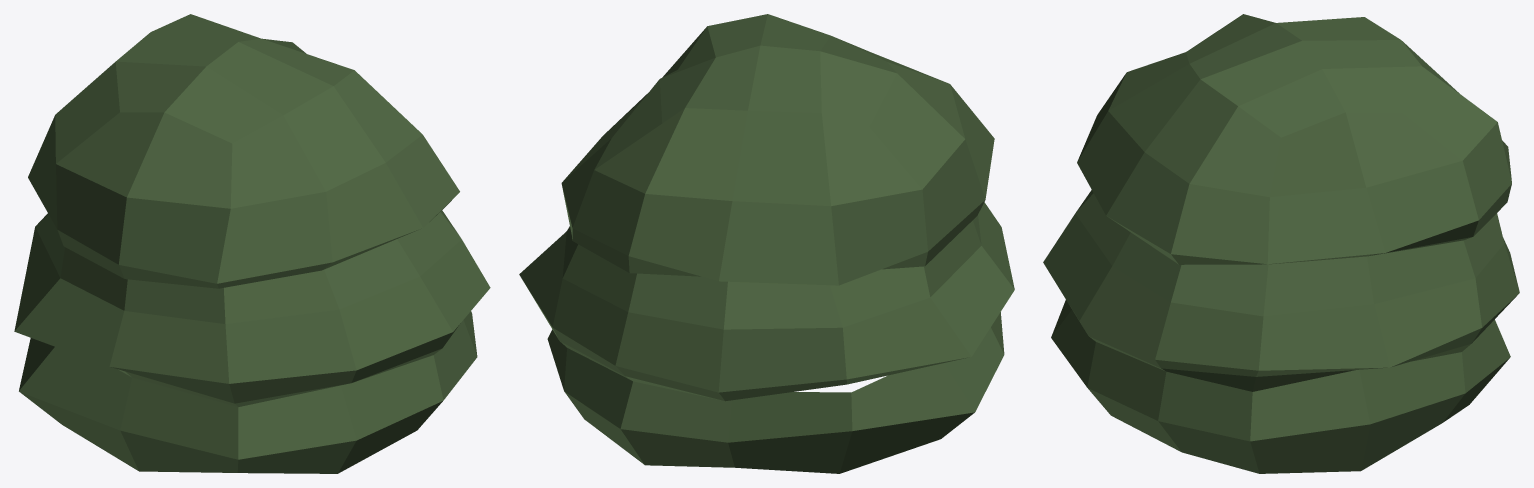
Rendered from Bush_2.gltf.
3 views of the same model, side by side, from view 1: azimuth 30°, elevation 25°; view 2: azimuth 150°, elevation 25°; view 3: azimuth 270°, elevation 25° (orthographic). The views are drawn at different scales.
Visible parts, largest first — view 1: Bush_2; view 2: Bush_2; view 3: Bush_2.
Boxes of the visible parts, x1,y1,x2,y2 form: Bush_2: (14,14,490,473); Bush_2: (519,14,1014,473); Bush_2: (1043,14,1519,473).
Size of the model in its own units: 1.35 by 1.11 by 1.33.
